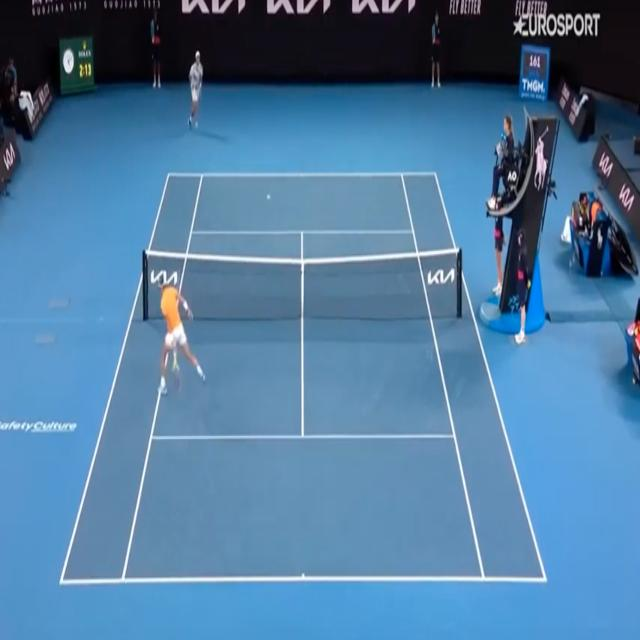ball: (266, 193, 271, 201)
